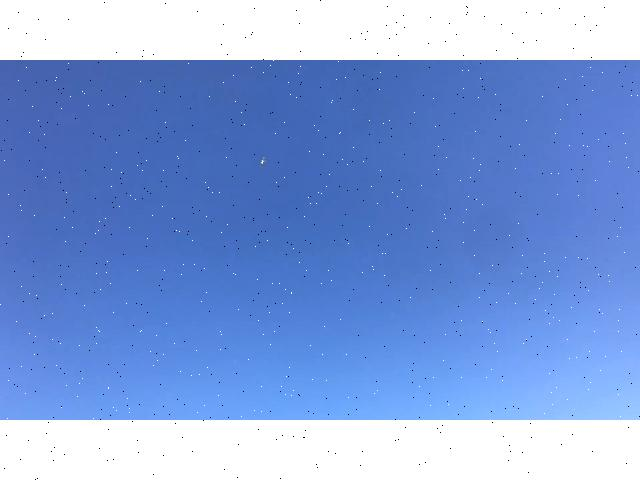Anti-Drone: (250, 152, 278, 167)
